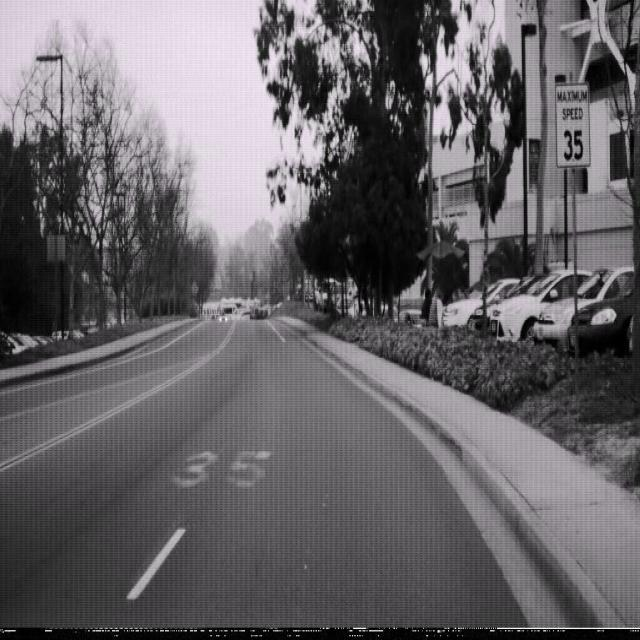speedLimit35: (553, 80, 591, 169)
